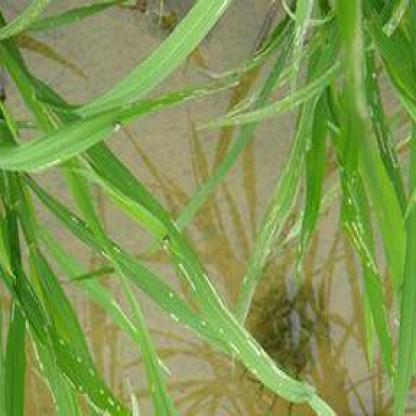rice-bug: (113, 115, 126, 136), (160, 232, 172, 251)
